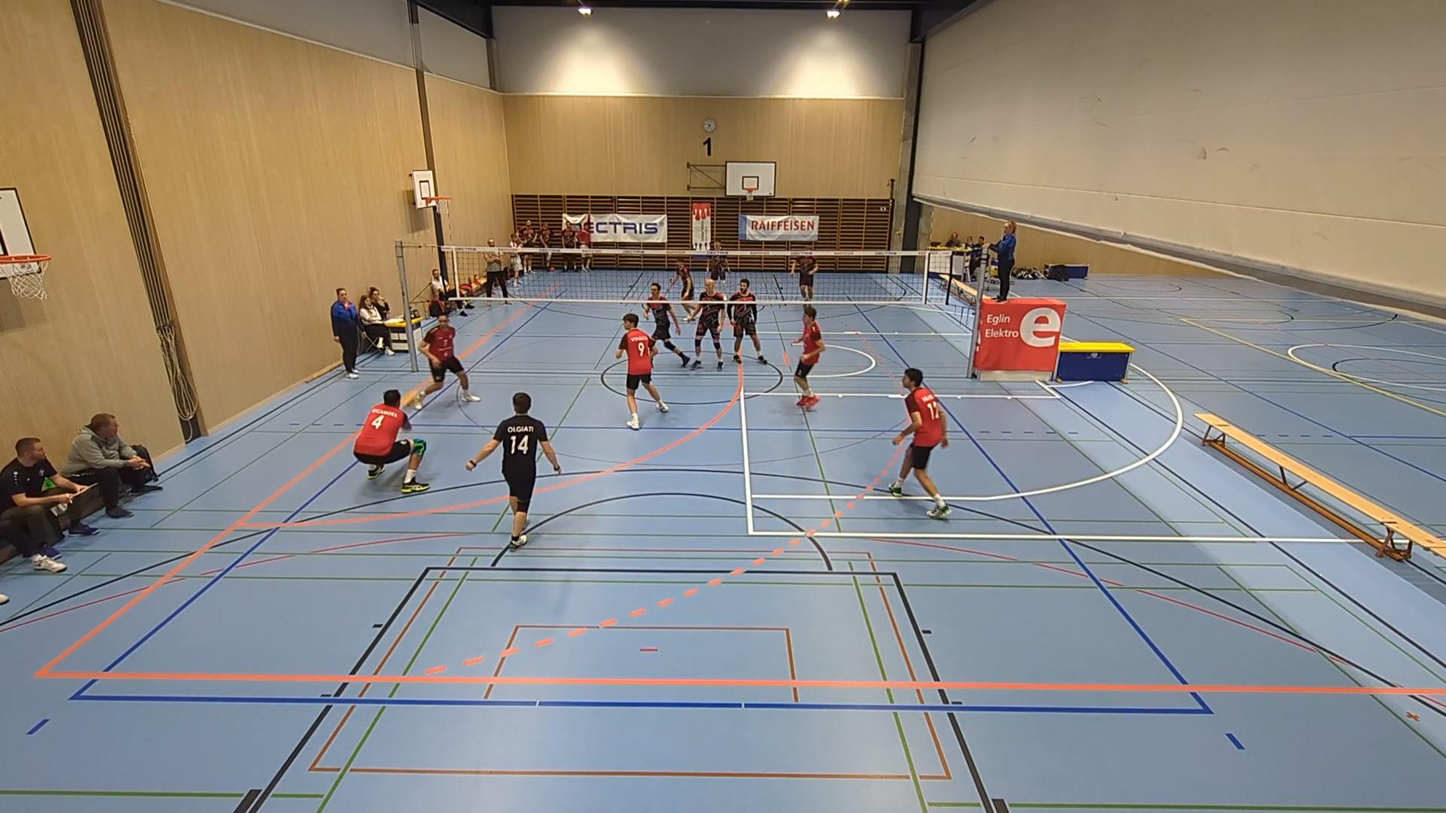ricezione: (359, 387, 428, 493)
